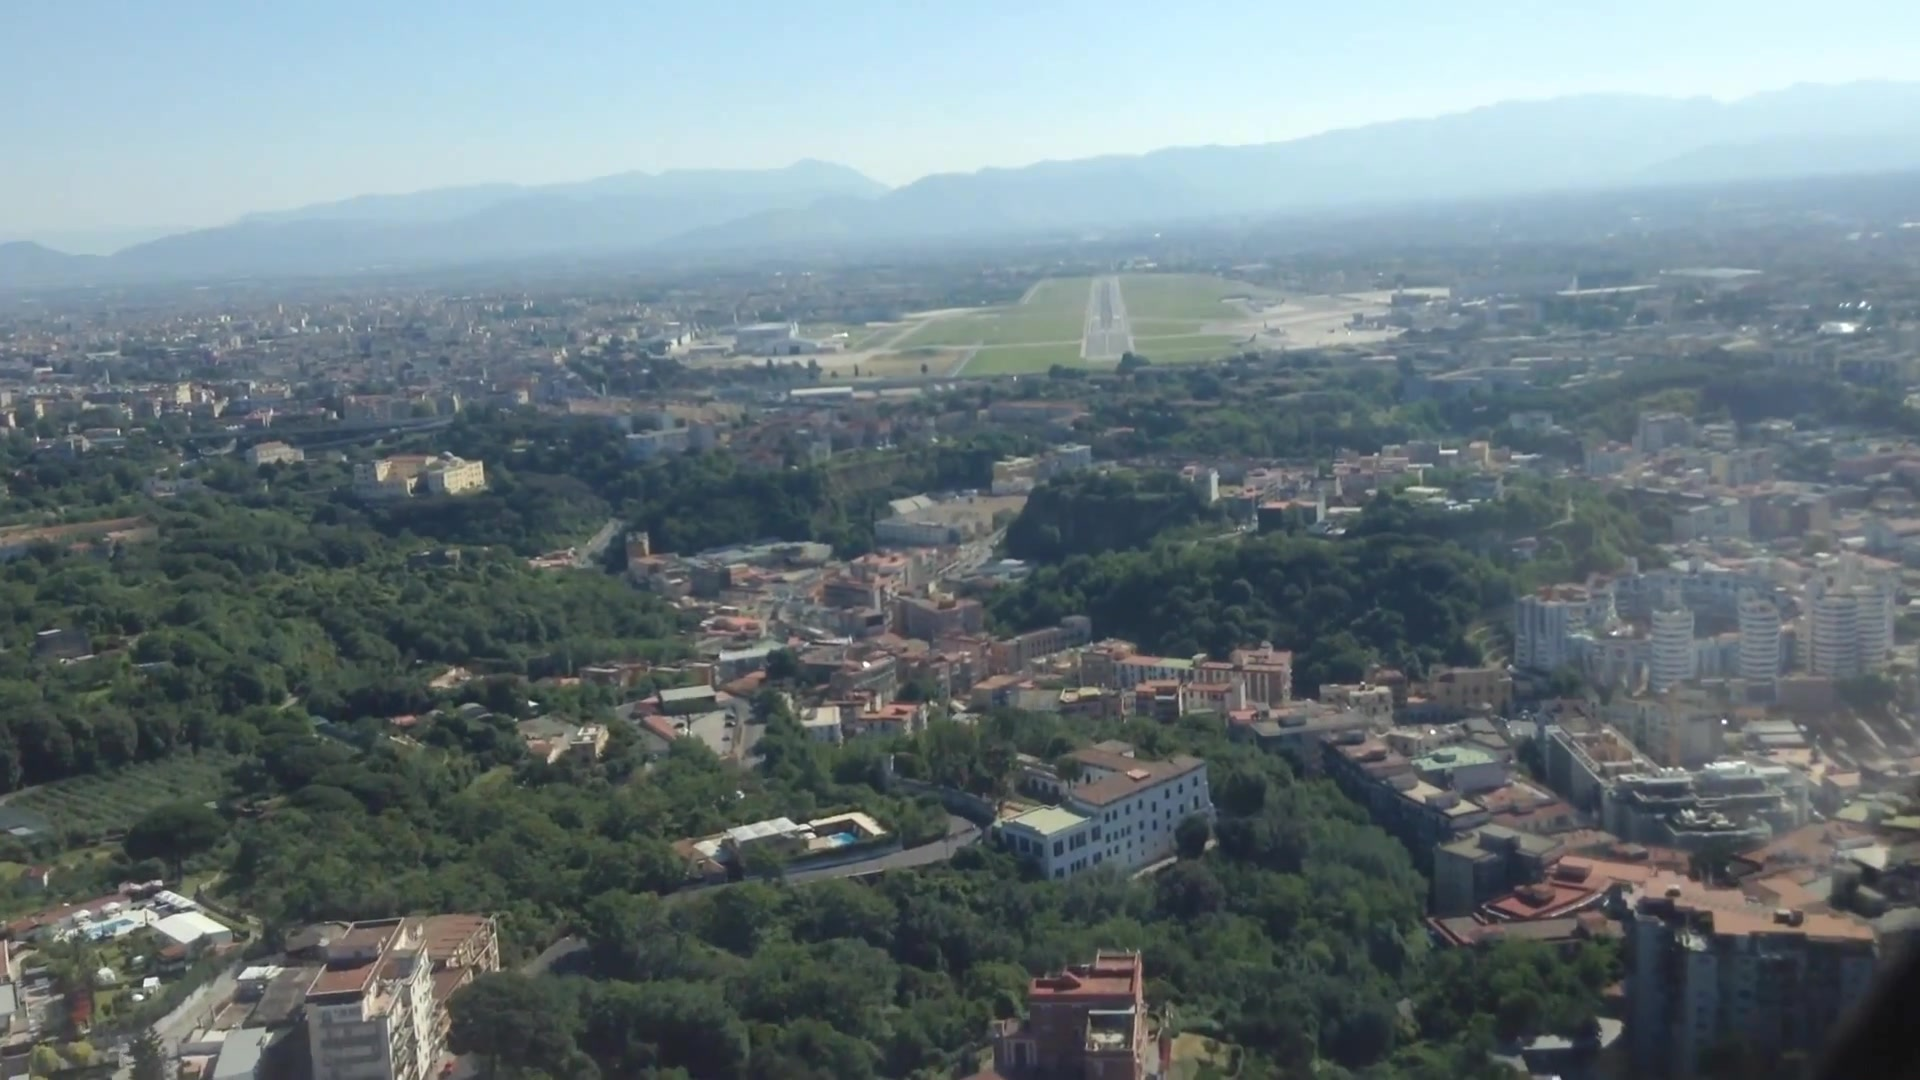runway: (1080, 273, 1137, 364)
